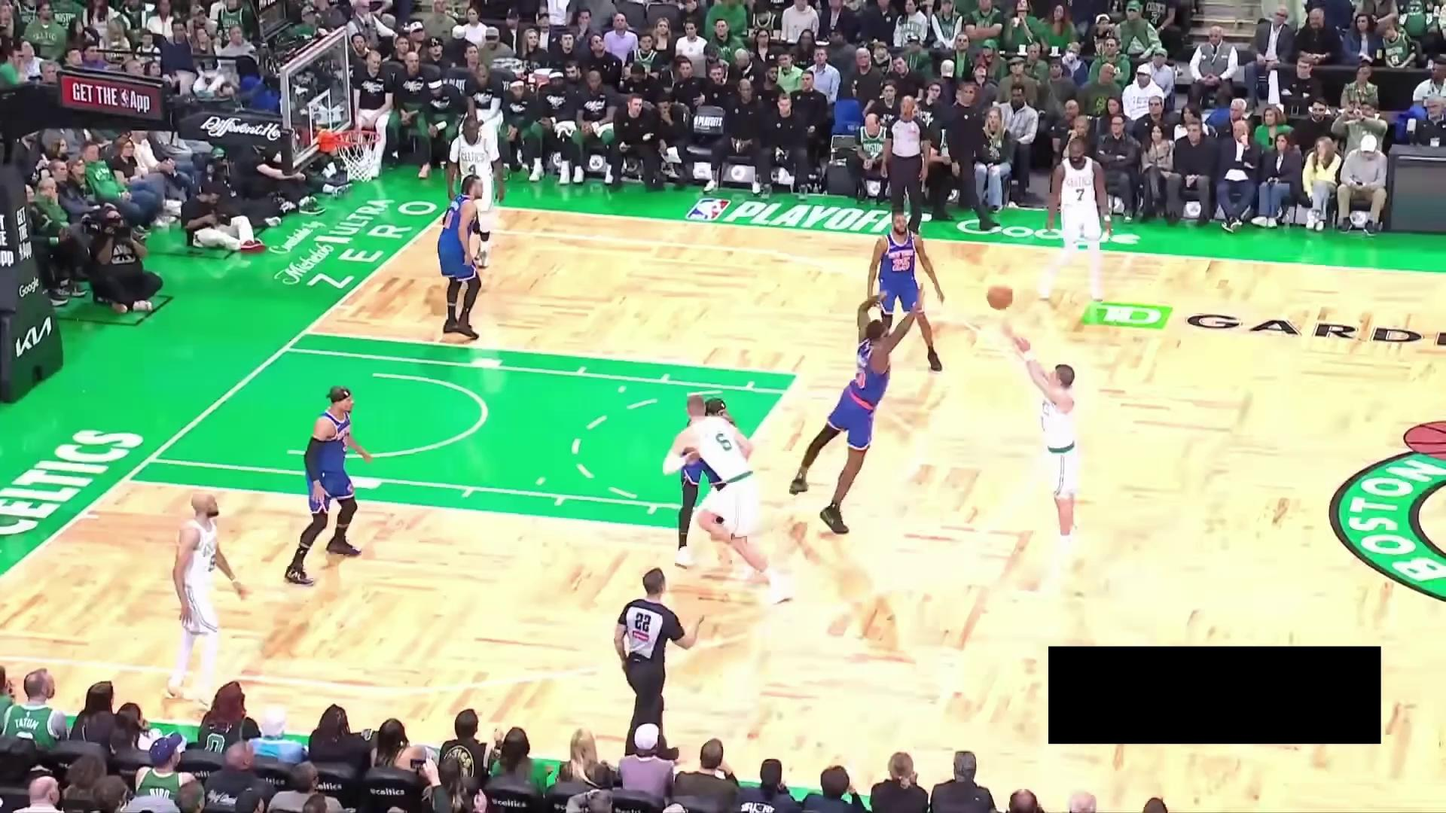ball: (986, 278, 1016, 312)
number: (716, 432, 738, 453), (891, 255, 912, 274), (443, 208, 456, 230), (208, 552, 218, 573), (1075, 185, 1087, 201), (342, 433, 350, 454), (467, 162, 477, 176)
player: (663, 395, 791, 604), (284, 384, 381, 590), (158, 487, 242, 714), (858, 203, 946, 374), (1034, 132, 1110, 307), (663, 395, 737, 570), (439, 112, 506, 268), (436, 169, 490, 338)
player-jump-shot: (984, 278, 1095, 573)
player-shot-block: (786, 279, 940, 537)
referee: (604, 565, 718, 757), (877, 90, 938, 231)
rim: (329, 124, 387, 149)
